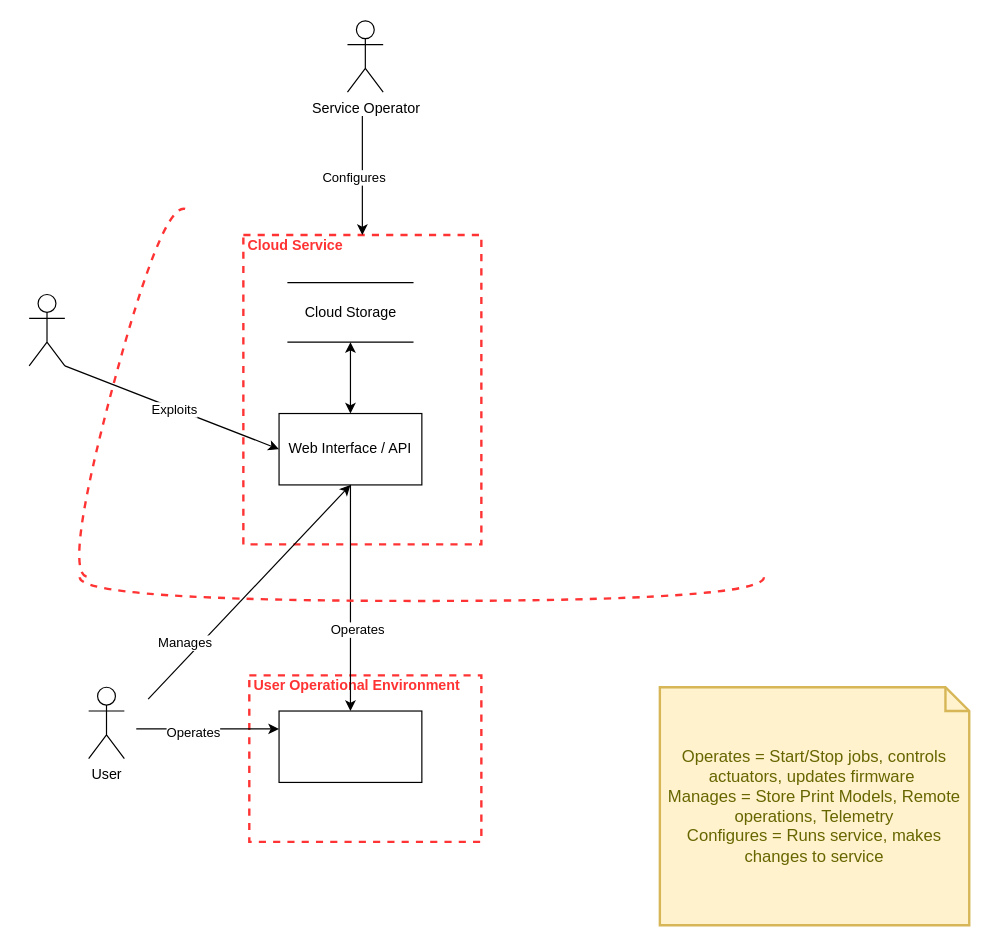
Image size: 991x947. Some labels were removed from this diagram. The shapes that lost their labels are listed below. From the top down, each one's centre as x and y in pixels, then its label:
At point (46, 329): "Attacker".
At point (421, 588): "Internet".
At point (350, 746): "Printer".
